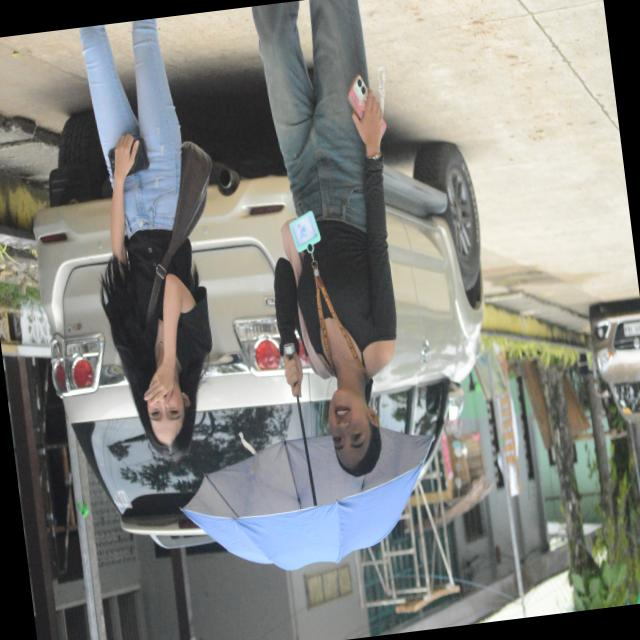person: (253, 0, 396, 475), (80, 19, 212, 458)
